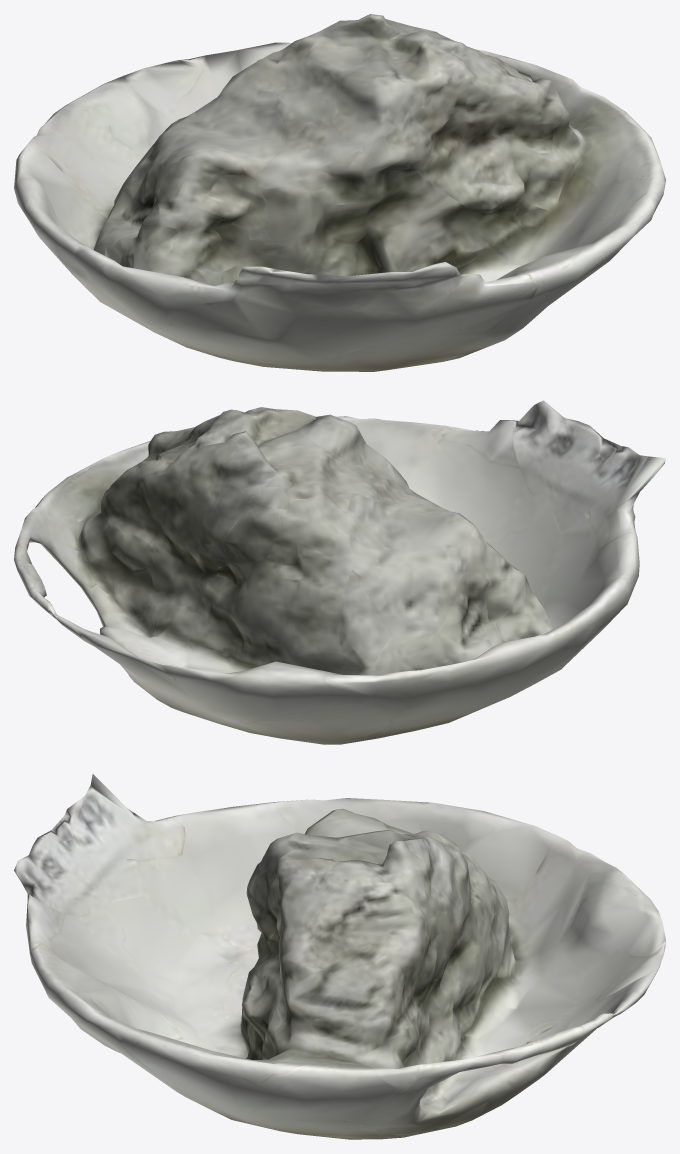
Rendered from hall.glb.
3 renders of one model, top to bottom at view 1: azimuth 30°, elevation 25°; view 2: azimuth 150°, elevation 25°; view 3: azimuth 270°, elevation 25°, orthographic. The views are drawn at different scales.
Bounding box in the file's own units: 0.6941 × 0.304 × 0.7042.
1 material, 1 textured.
